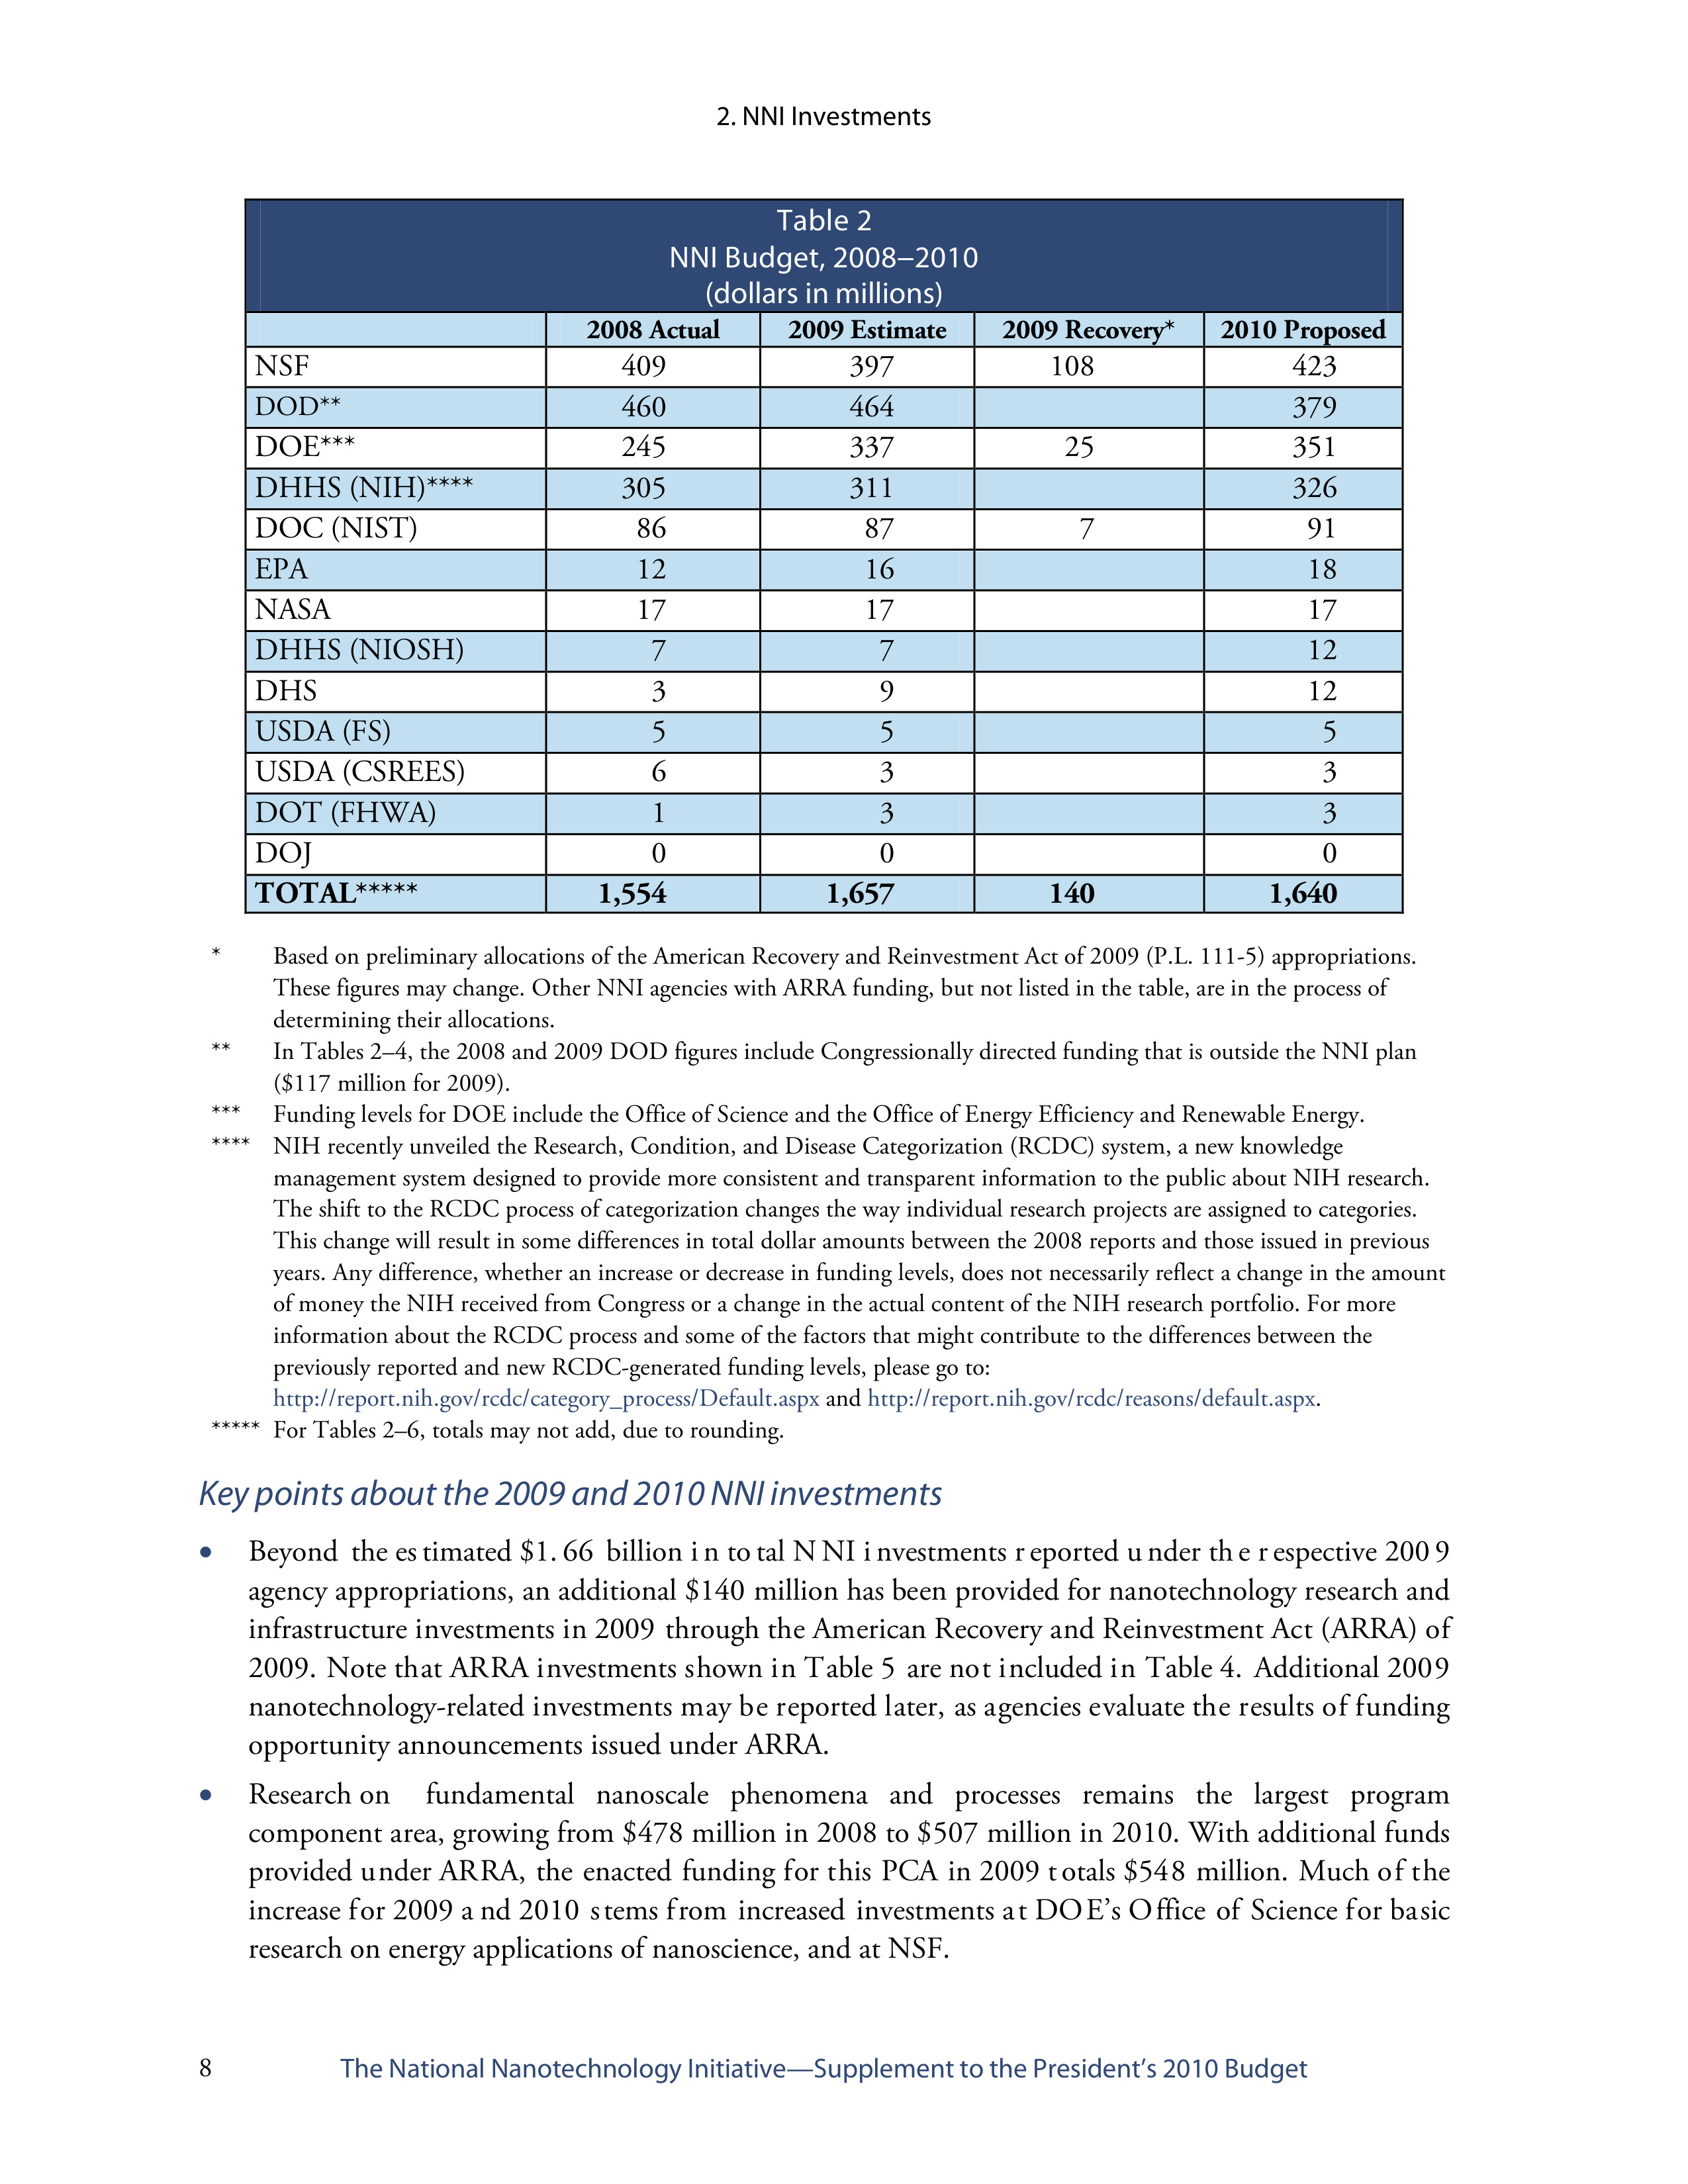table: (254, 314, 1387, 911)
